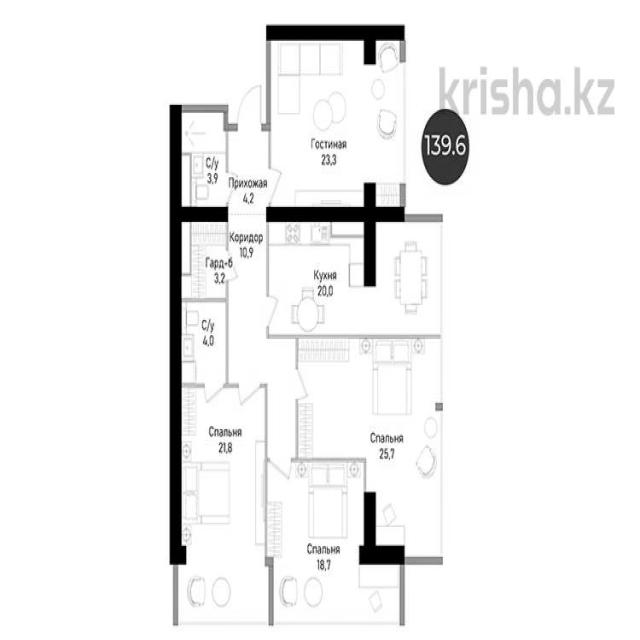bathroom: (178, 106, 226, 214), (182, 301, 225, 383)
hallway: (228, 336, 298, 458), (226, 217, 266, 337), (229, 130, 269, 216)
kitchen: (268, 217, 444, 333)
living_room: (176, 385, 254, 630), (364, 336, 444, 549), (271, 32, 366, 210), (284, 456, 364, 624)
other: (173, 215, 225, 298)
